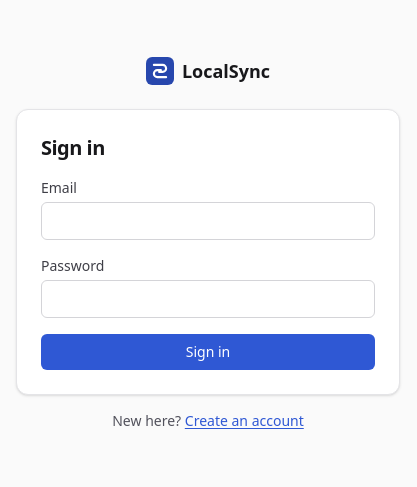
Test: login page › explains that signing in needs a connection when offline
Type "ada@example.com" into the field labelled "Email".
click(208, 221); type("ada@example.com")  # box 41,202 -> 375,240
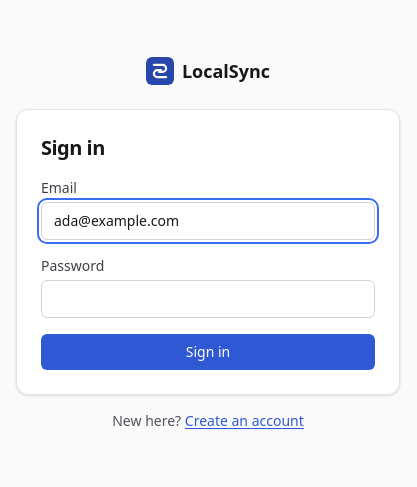
Type "whatever password" into the password field labelled "Password".
click(208, 299); type("whatever password")  # box 41,280 -> 375,318
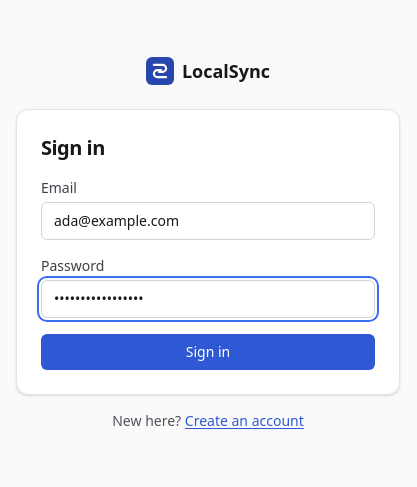
Click the button "Sign in".
click(208, 352)  # box 41,334 -> 375,370
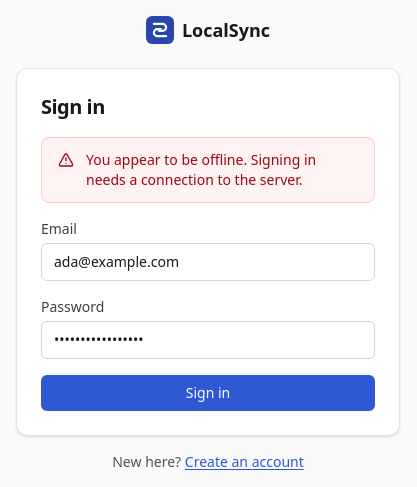
expect the message shows "offline": met, box 86,150 -> 316,189
